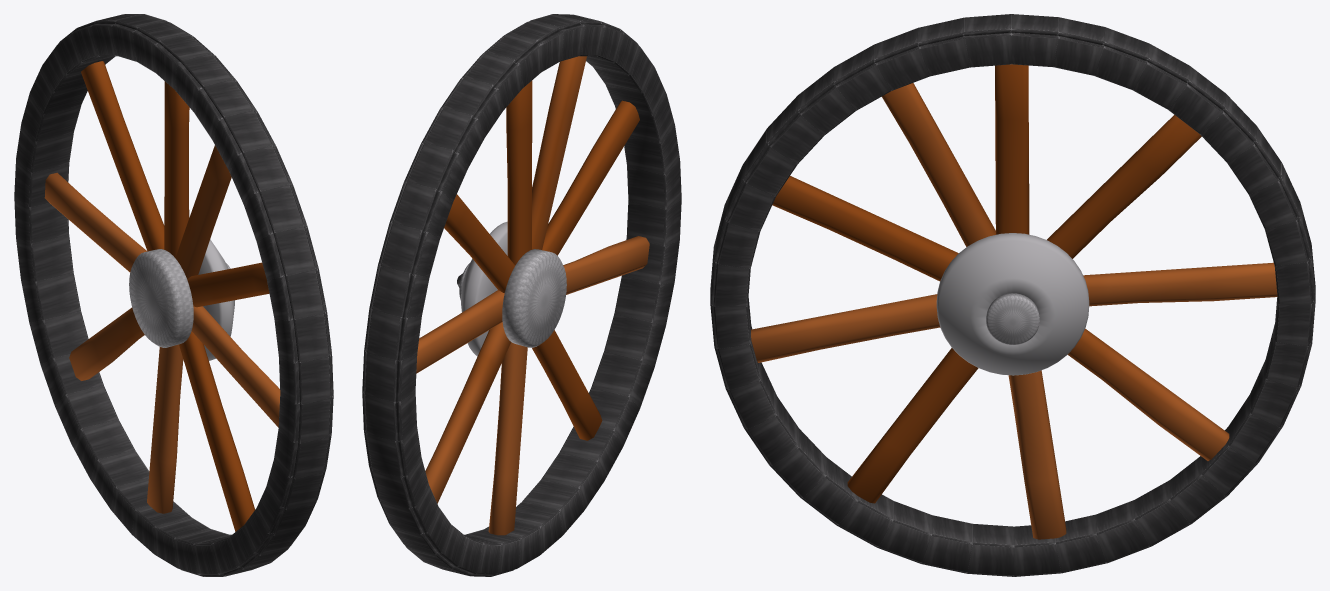
File: Ruedas.obj
3 renders of one model, left to right at view 1: azimuth 30°, elevation 25°; view 2: azimuth 150°, elevation 25°; view 3: azimuth 270°, elevation 25°, orthographic. The views are drawn at different scales.
Visible parts, largest first — view 1: Carreta_Horse.001; view 2: Carreta_Horse.001; view 3: Carreta_Horse.001.
Part boxes in pixels (x1=…): Carreta_Horse.001: x1=14, y1=14, x2=333, y2=576; Carreta_Horse.001: x1=362, y1=14, x2=681, y2=576; Carreta_Horse.001: x1=710, y1=14, x2=1315, y2=576.
Bounding box in the file's own units: 1.14 × 6.58 × 6.58.
Materials: 1 (1 with a texture image).
